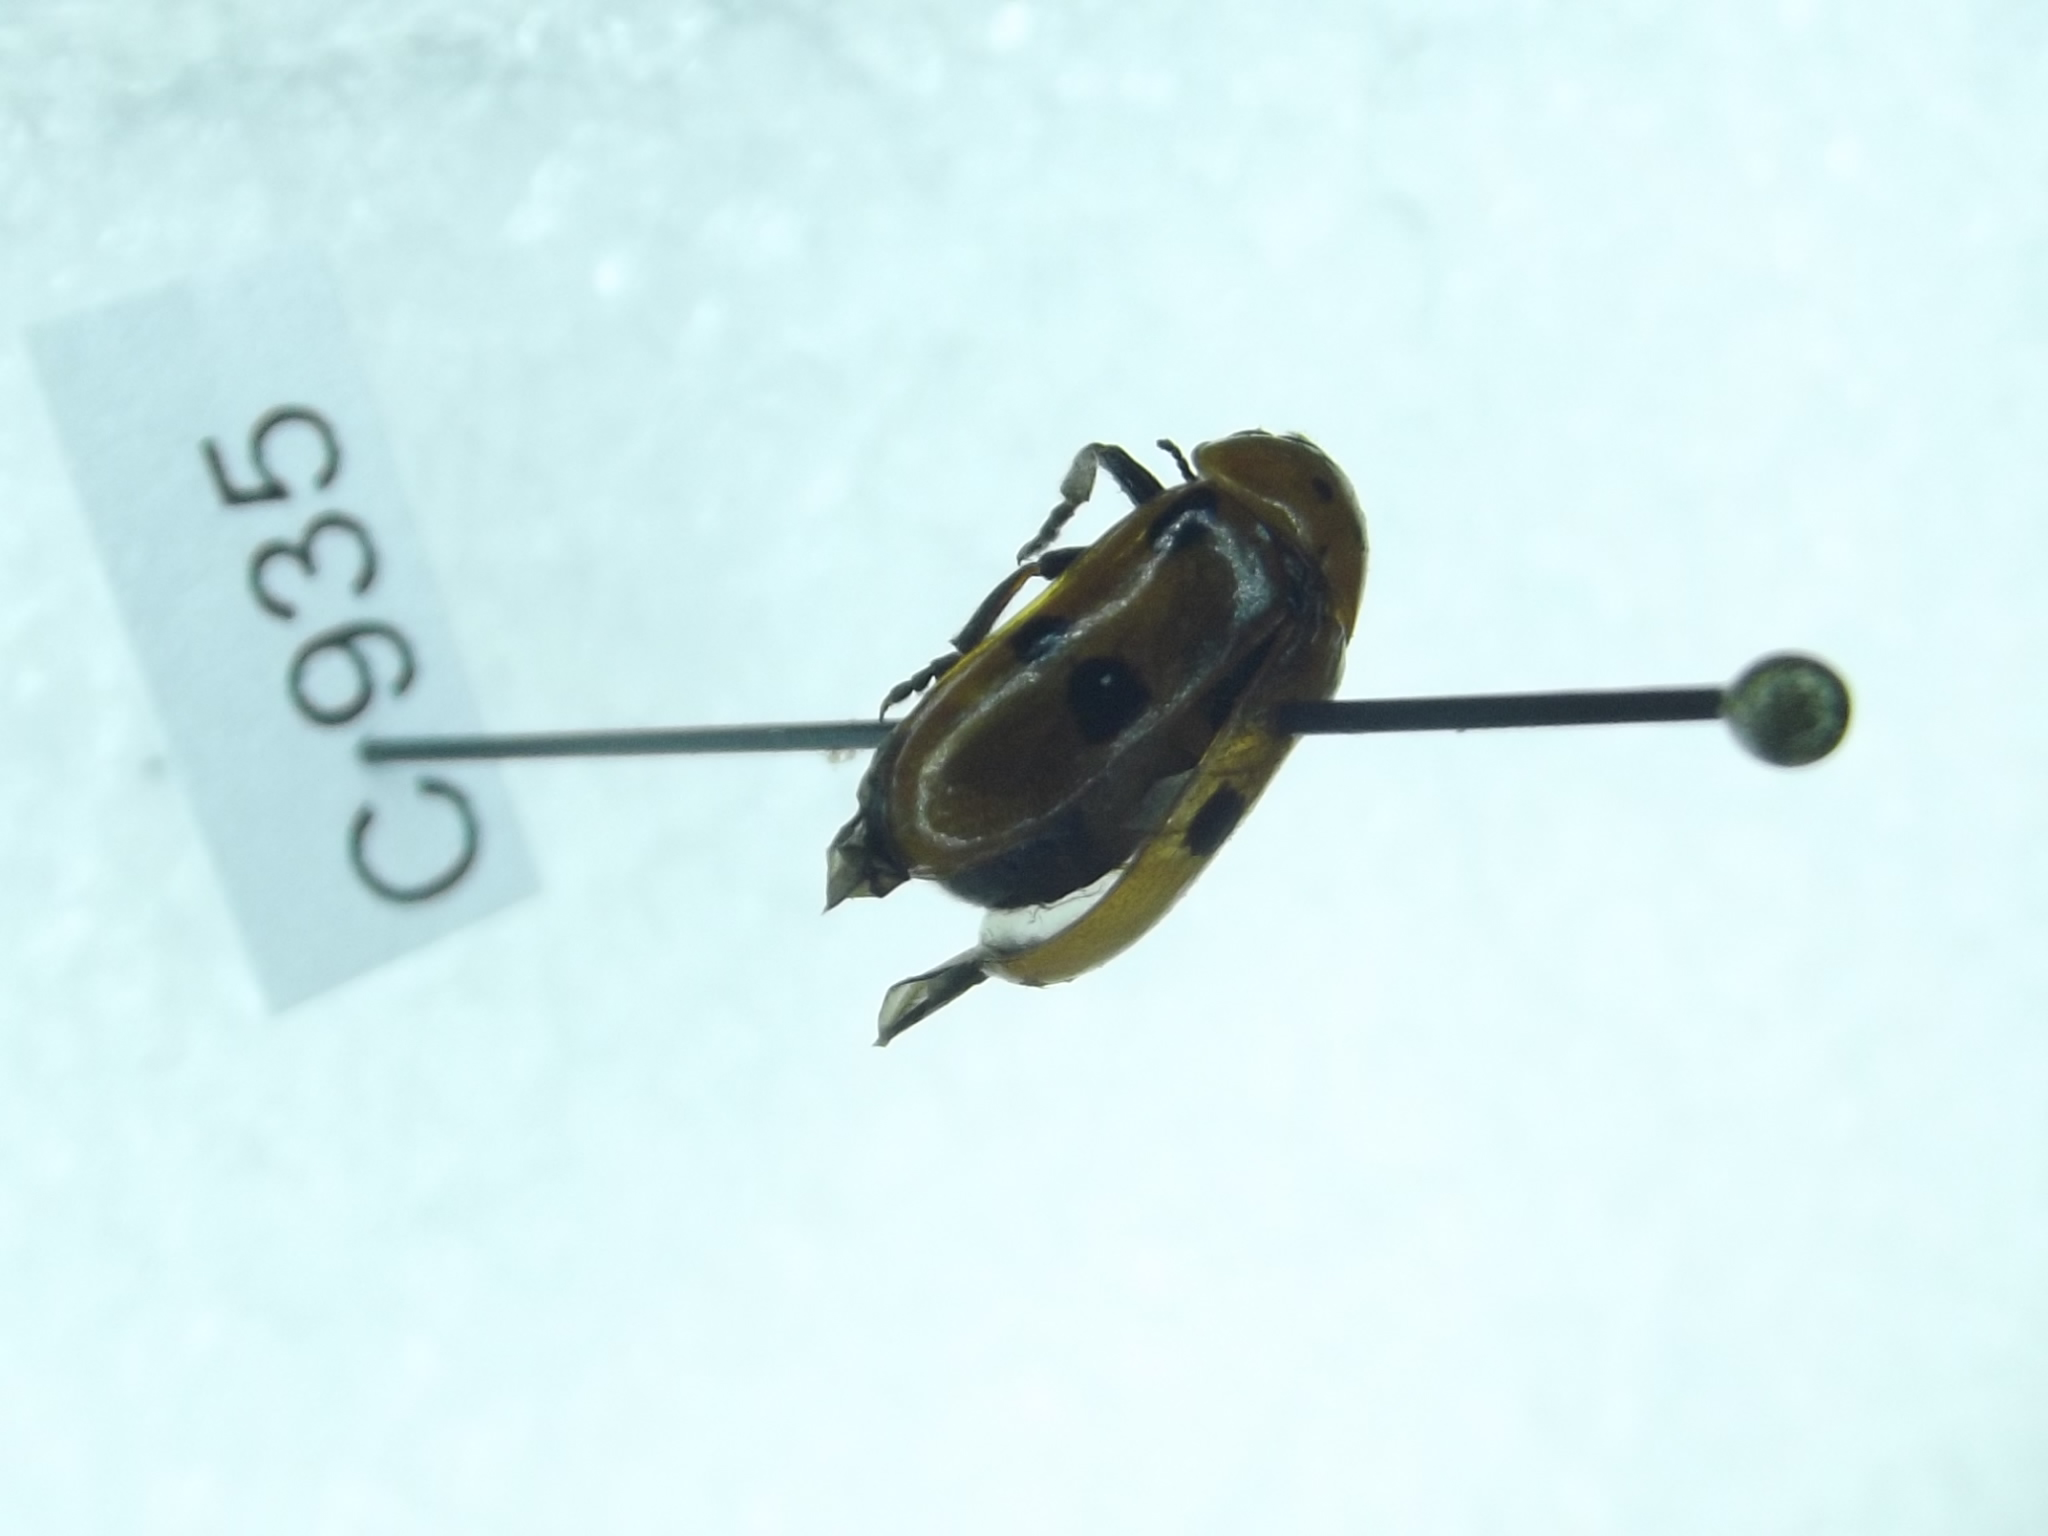Clytra_novempunctata: (797, 416, 1380, 1055)
